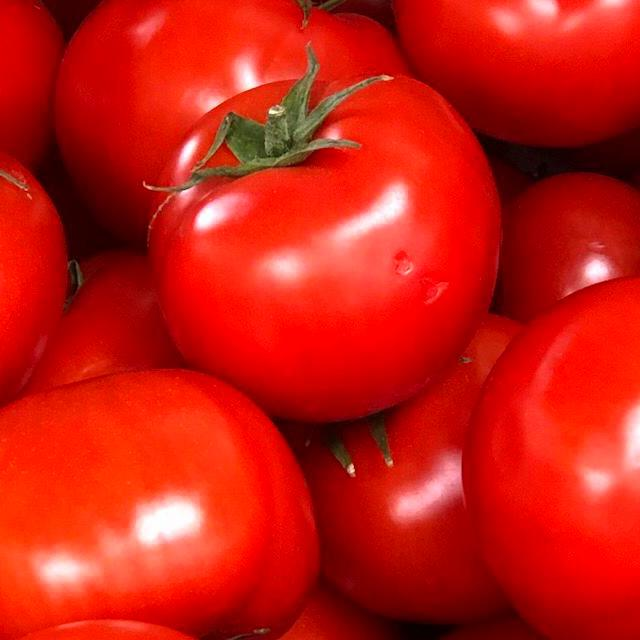tomato: (142, 52, 508, 415), (475, 265, 640, 640), (390, 0, 640, 145), (0, 82, 70, 450)
